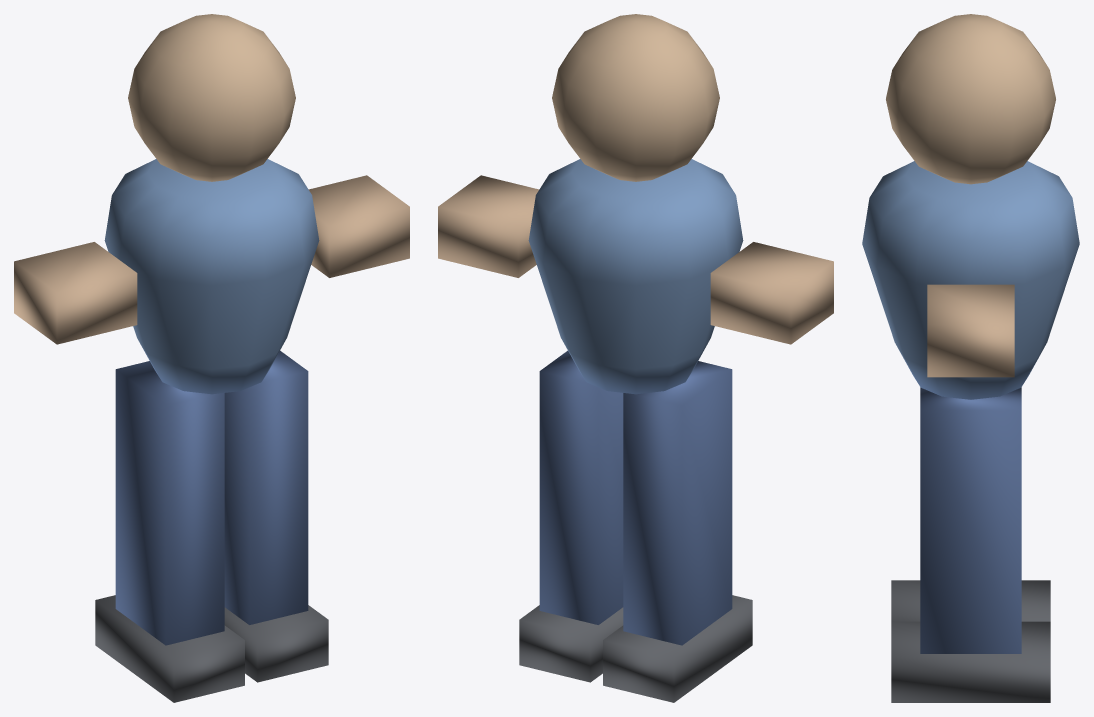
Rendered from figure.glb.
3 views of the same model, side by side, from view 1: azimuth 30°, elevation 25°; view 2: azimuth 150°, elevation 25°; view 3: azimuth 270°, elevation 25° (orthographic).
Visible parts, largest first — view 1: figure; view 2: figure; view 3: figure.
Part boxes in pixels (box(x1,y1,x2,y2)): figure: box(14, 14, 409, 702); figure: box(438, 14, 833, 702); figure: box(862, 14, 1079, 702).
Bounding box in the file's own units: 1.14 × 1.96 × 0.6.
